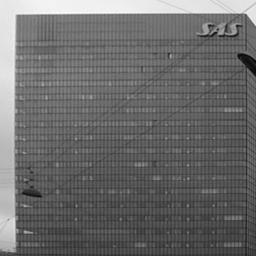building: (15, 0, 248, 255)
